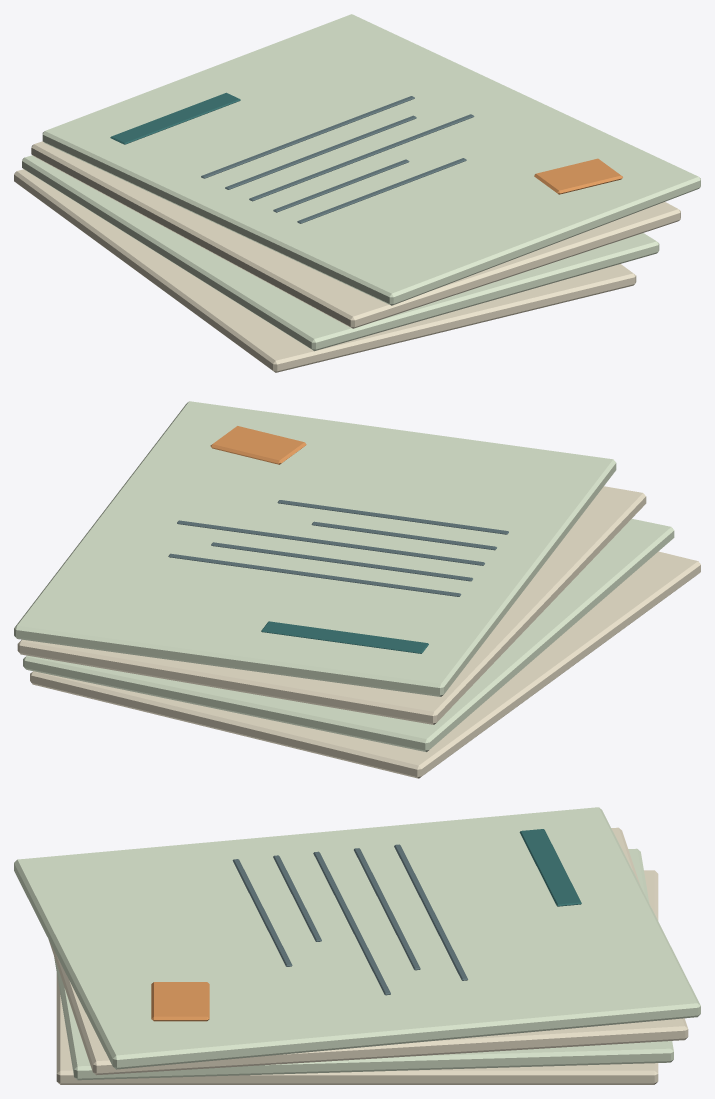
File: paper.glb
3 renders of one model, top to bottom at view 1: azimuth 30°, elevation 25°; view 2: azimuth 150°, elevation 25°; view 3: azimuth 270°, elevation 25°, orthographic. The views are drawn at different scales.
Parts seen in each view (by area): view 1: Sheet3, Sheet2, Sheet1, Sheet0, Label, Letterhead, Rule2, Rule0, Rule1, Rule4, Rule3; view 2: Sheet3, Sheet0, Sheet1, Sheet2, Label, Letterhead, Rule2, Rule0, Rule1, Rule4, Rule3; view 3: Sheet3, Sheet2, Sheet1, Sheet0, Label, Letterhead, Rule2, Rule0, Rule1, Rule4, Rule3.
Boxes of the visible parts, bbox=[...] form: Sheet3: bbox=[42, 14, 700, 305]; Sheet2: bbox=[31, 141, 680, 328]; Sheet1: bbox=[22, 155, 659, 351]; Sheet0: bbox=[14, 169, 636, 372]; Label: bbox=[534, 158, 622, 194]; Letterhead: bbox=[110, 92, 240, 144]; Rule2: bbox=[249, 114, 474, 201]; Rule0: bbox=[201, 96, 414, 178]; Rule1: bbox=[225, 115, 416, 189]; Rule4: bbox=[297, 158, 466, 223]; Rule3: bbox=[273, 159, 409, 212]; Sheet3: bbox=[14, 401, 616, 696]; Sheet0: bbox=[30, 551, 700, 778]; Sheet1: bbox=[23, 519, 674, 752]; Sheet2: bbox=[17, 486, 646, 724]; Label: bbox=[210, 426, 306, 464]; Letterhead: bbox=[261, 621, 428, 653]; Rule2: bbox=[177, 520, 484, 565]; Rule0: bbox=[168, 553, 461, 596]; Rule1: bbox=[211, 542, 472, 581]; Rule4: bbox=[277, 500, 508, 534]; Rule3: bbox=[311, 521, 496, 550]; Sheet3: bbox=[14, 807, 700, 1069]; Sheet2: bbox=[48, 827, 688, 1075]; Sheet1: bbox=[54, 848, 673, 1080]; Sheet0: bbox=[56, 870, 658, 1084]; Label: bbox=[151, 982, 209, 1021]; Letterhead: bbox=[519, 829, 581, 906]; Rule2: bbox=[313, 851, 390, 995]; Rule0: bbox=[394, 844, 467, 980]; Rule1: bbox=[354, 848, 420, 970]; Rule4: bbox=[232, 859, 292, 966]; Rule3: bbox=[273, 855, 321, 941].
Bounding box in the file's own units: 0.349 × 0.054 × 0.3998.
